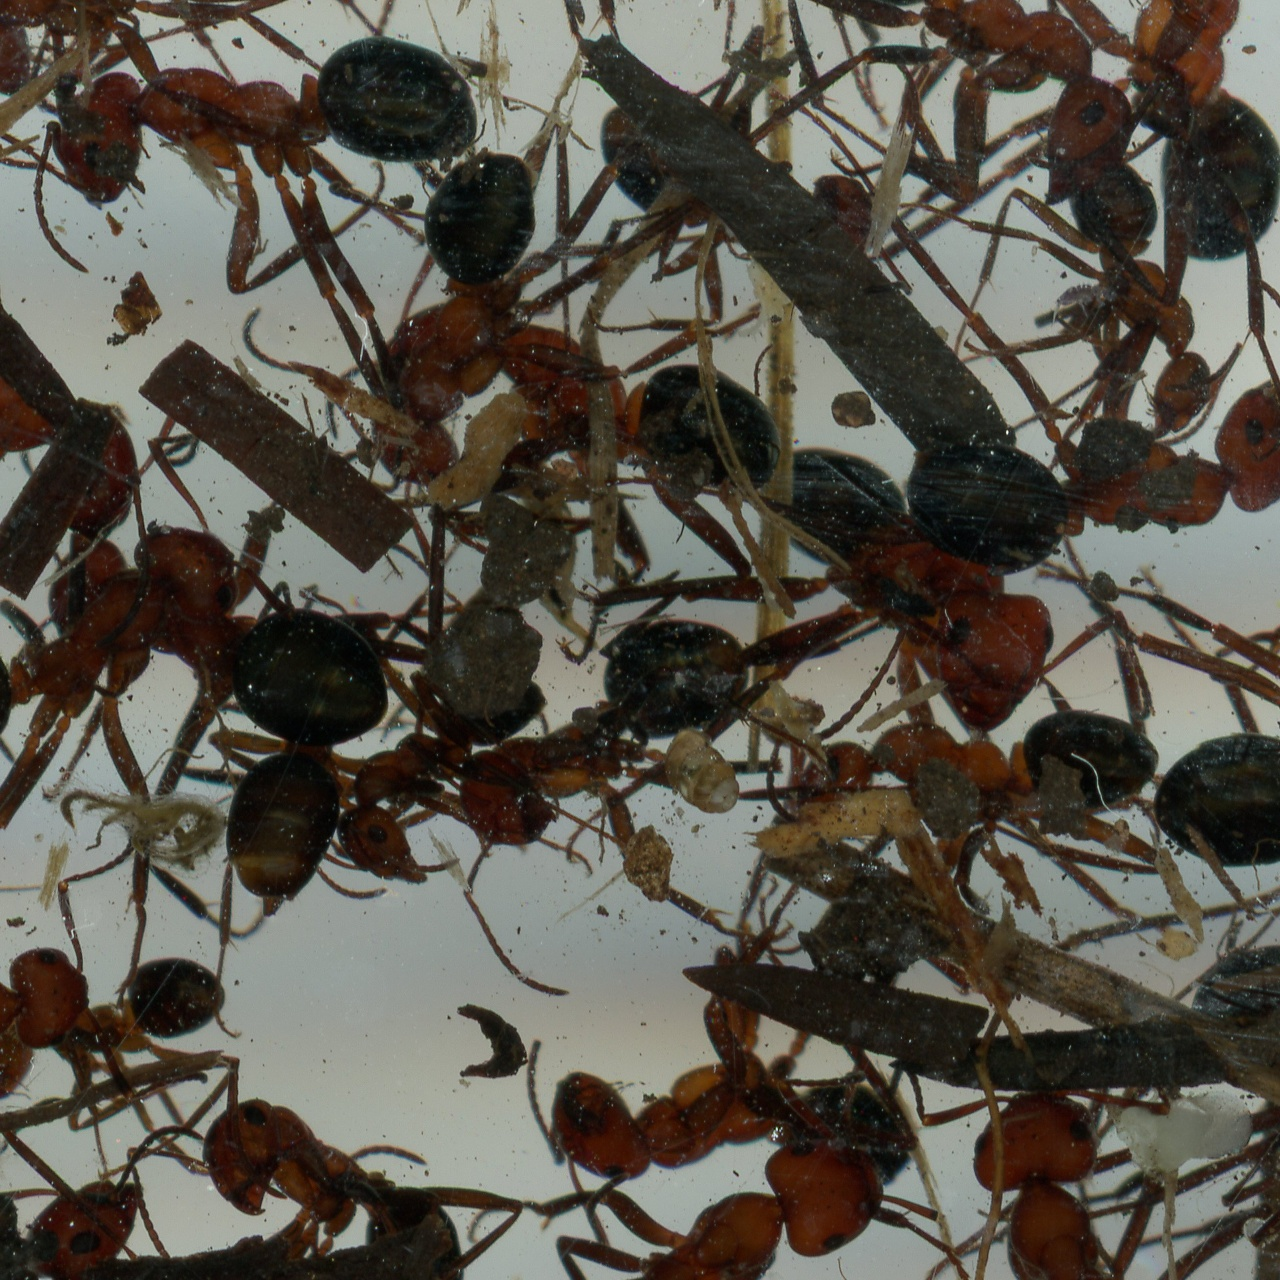arthropod: (380, 560, 860, 1027), (558, 434, 1078, 729), (319, 282, 802, 587), (0, 442, 261, 958), (509, 855, 831, 1239), (28, 33, 488, 298), (227, 142, 558, 502), (903, 267, 1280, 574), (284, 600, 560, 942), (761, 696, 1175, 925), (938, 136, 1246, 427), (886, 1055, 1280, 1280), (1026, 563, 1280, 897), (181, 592, 418, 940), (477, 1123, 982, 1280), (778, 0, 1143, 207), (1075, 0, 1280, 338), (204, 1057, 504, 1280), (0, 948, 238, 1157), (0, 0, 311, 109), (0, 1138, 223, 1280), (0, 776, 91, 1114), (1169, 930, 1280, 1185), (0, 290, 72, 627), (645, 724, 753, 823), (1049, 281, 1123, 333)
